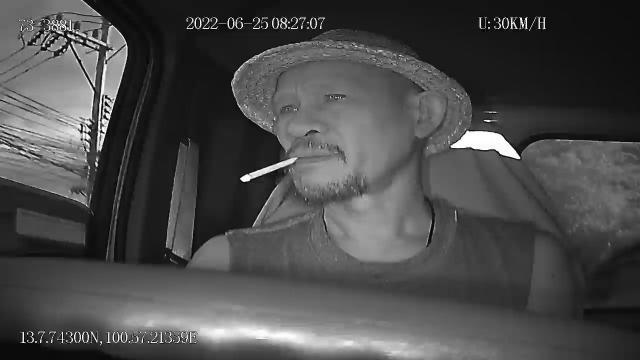SafeDriving: (318, 86, 356, 108), (275, 99, 304, 118)
Smoking: (239, 156, 299, 185)
